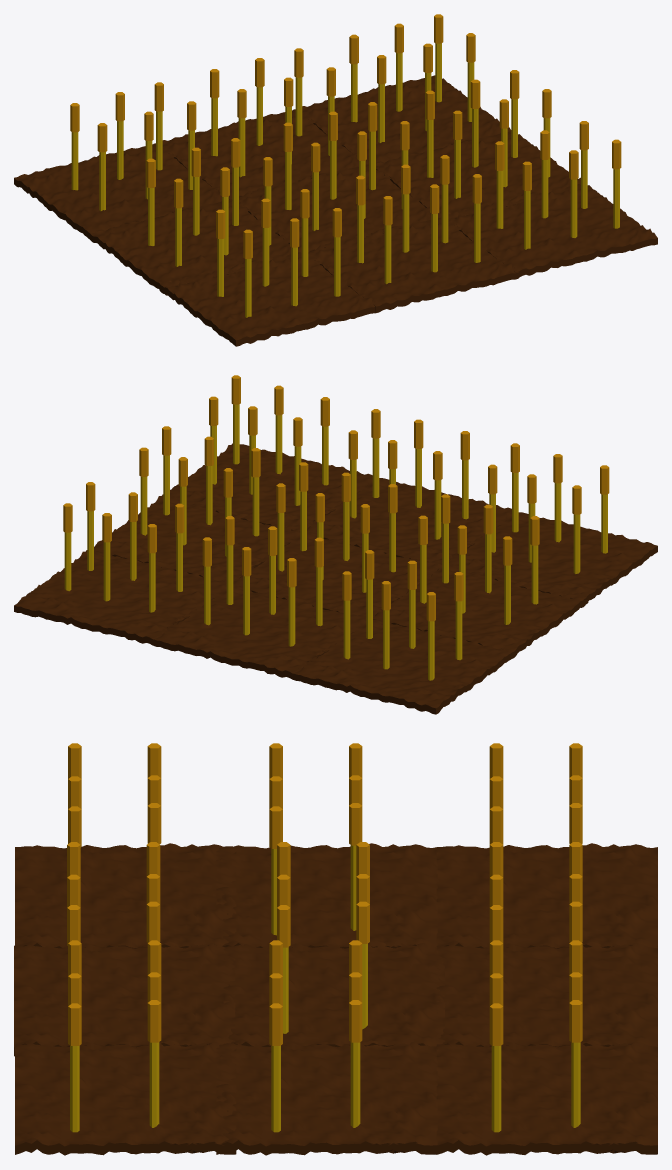
The model's file is Zboze_srednie.FBX.
3 renders of one model, top to bottom at view 1: azimuth 30°, elevation 25°; view 2: azimuth 150°, elevation 25°; view 3: azimuth 270°, elevation 25°, orthographic. The views are drawn at different scales.
Parts seen in each view (by area): view 1: Box011, Box005, Box010, Box013, Box012, Box008, Box007, Box006, Box009; view 2: Box013, Box008, Box007, Box012, Box011, Box005, Box009, Box006, Box010; view 3: Box008, Box010, Box009, Box013, Box005, Box007, Box011, Box006, Box012, Gengon125, Gengon160, Gengon148 (+7 smaller).
Part boxes in pixels (x1,y1,x2,y2): Box011: (159, 252, 378, 346); Box005: (308, 217, 518, 312); Box010: (448, 184, 657, 277); Box013: (14, 143, 230, 239); Box012: (90, 199, 301, 295); Box008: (293, 75, 511, 164); Box007: (154, 109, 369, 199); Box006: (232, 164, 441, 251); Box009: (376, 131, 580, 218); Box013: (293, 618, 512, 714); Box008: (14, 550, 226, 645); Box007: (153, 584, 366, 679); Box012: (373, 562, 588, 658); Box011: (449, 511, 657, 607); Box005: (307, 477, 511, 562); Box009: (94, 494, 300, 581); Box006: (233, 530, 441, 616); Box010: (170, 443, 372, 530); Box008: (436, 1040, 657, 1155); Box010: (15, 1040, 236, 1155); Box009: (216, 1040, 437, 1155); Box013: (436, 843, 657, 948); Box005: (14, 942, 235, 1056); Box007: (436, 942, 657, 1047); Box011: (15, 843, 236, 948); Box006: (223, 942, 444, 1047); Box012: (216, 843, 437, 948); Gengon125: (491, 1046, 501, 1132); Gengon160: (149, 1042, 159, 1127); Gengon148: (350, 1042, 360, 1127).
Size of what is drawn, in the model's own units: 64.59 by 13.68 by 59.01.
